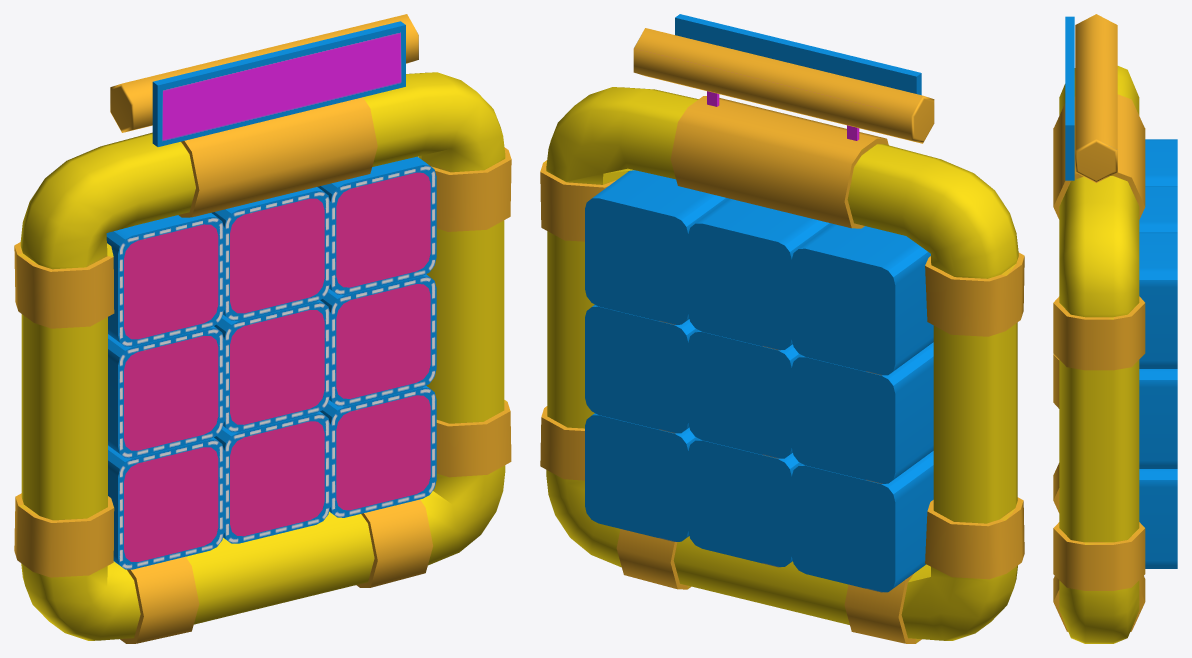
Rendered from victory box.fbx.
The picture shows the model from 3 angles, left to right: view 1: azimuth 30°, elevation 25°; view 2: azimuth 150°, elevation 25°; view 3: azimuth 270°, elevation 25°; orthographic projection. The views are drawn at different scales.
Parts seen in each view (by area): view 1: border, inside_cube (×9), outer_cube (×9); view 2: border, outer_cube (×9); view 3: border, outer_cube (×5).
Part boxes in pixels (box(x1,y1,x2,y2)): border: box(14, 14, 511, 643); inside_cube (×9): box(124, 172, 430, 561); outer_cube (×9): box(106, 156, 436, 569); border: box(540, 14, 1024, 643); outer_cube (×9): box(585, 170, 933, 592); border: box(1053, 14, 1145, 643); outer_cube (×5): box(1139, 139, 1177, 568).
Bounding box in the file's own units: 18.42 × 20.82 × 4.64.
Materials: 1 (1 with a texture image).
